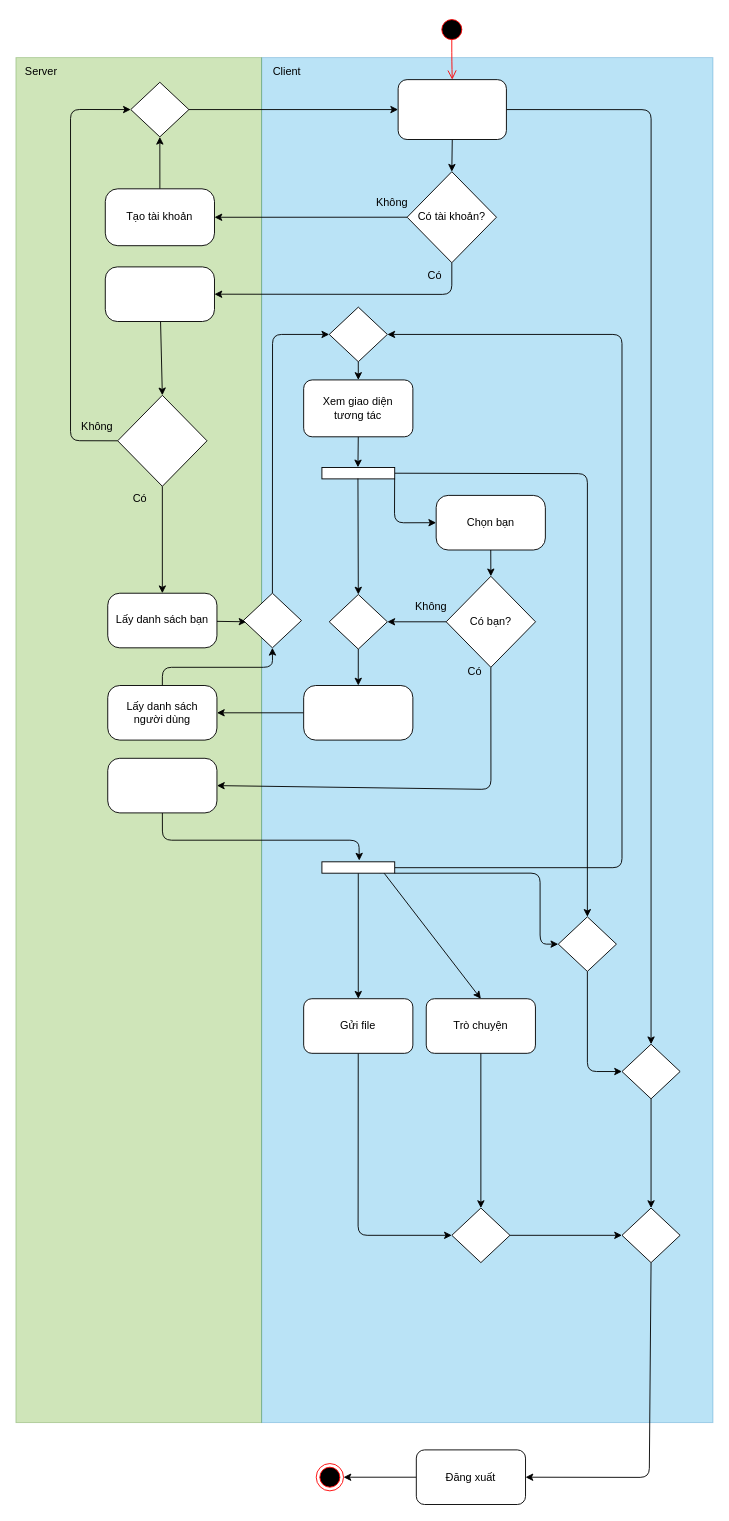
Some shapes in this 729 by 1521 pixel diagram are drawn without their labels. Here are the shapes that lost their labels. From the top down, the box of each, then its label:
(397, 79, 506, 140): Đăng nhập
(104, 266, 214, 322): Kiểm tra thông tin
(117, 394, 207, 486): Thông tin chính xác?
(303, 685, 413, 740): Thêm bạn
(107, 757, 217, 813): Tạo kết nối
